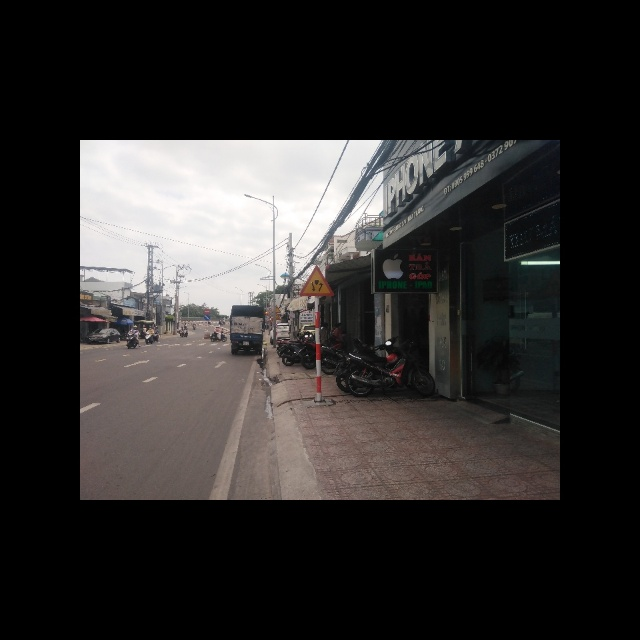Đường đôi: (298, 264, 331, 296)
